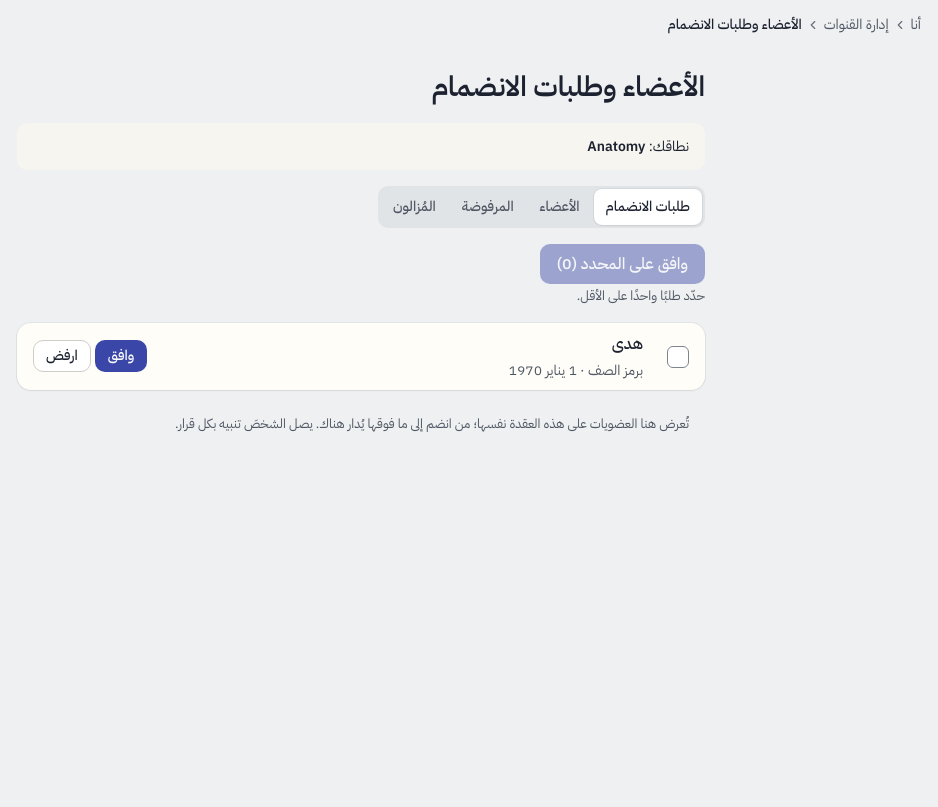
Test: AOS-20.19 — «الأعضاء وطلبات الانضمام»: a request someone decided first › this account approved it on another device: «جهاز آخر لك»
Click the button with aria-label "وافق على هدى" at (121, 356), box x1=95 y1=340 x2=147 y2=372
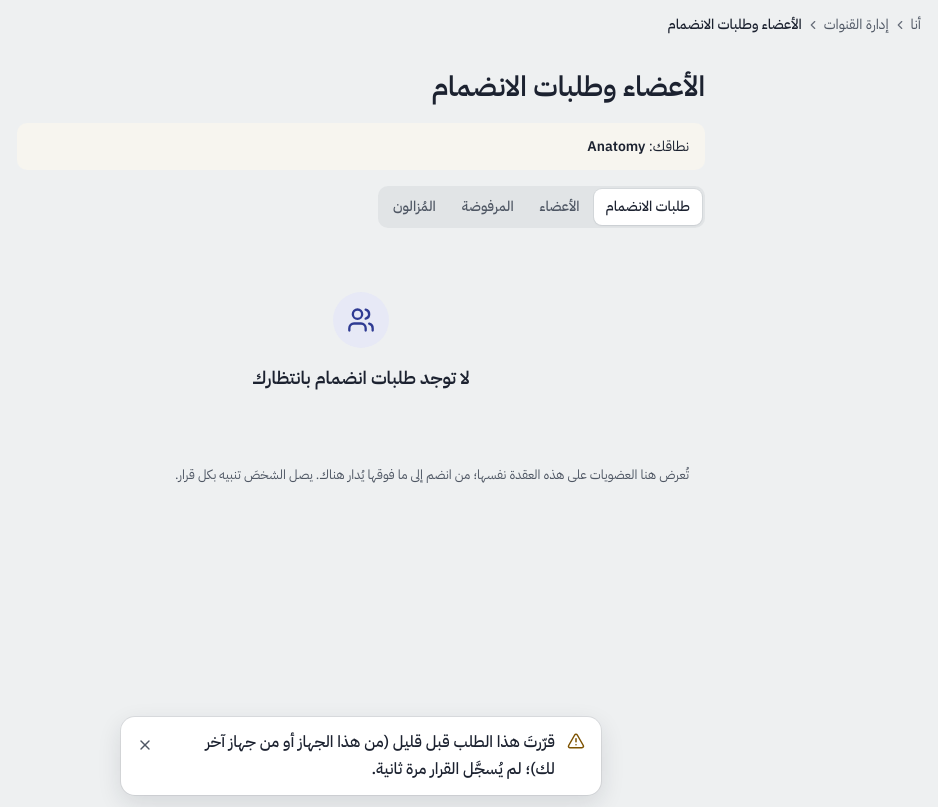
Expected: the text "قرّرتَ هذا الطلب قبل قليل (من هذا الجهاز أو من جهاز آخر لك)" is shown, x1=206 y1=730 x2=555 y2=781
